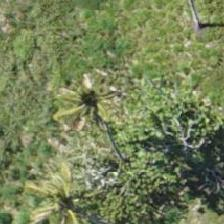coconut_tree: (45, 59, 135, 149), (19, 157, 109, 223)
